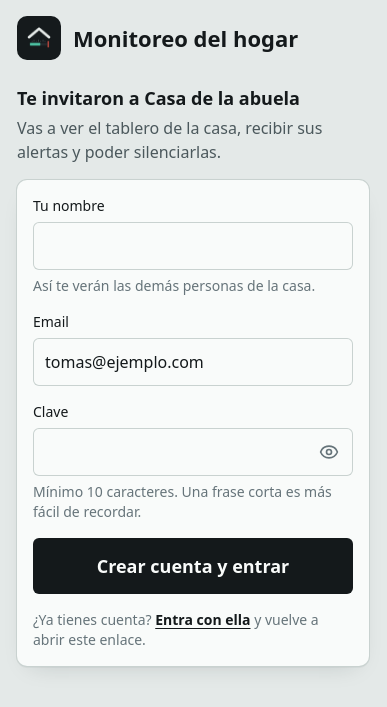
Test: Invitación › antes de enviar dice qué falta, junto a cada campo
The image size is (387, 707).
Step 1. Click the button "Crear cuenta y entrar" → (193, 566), box [33,538,353,594]
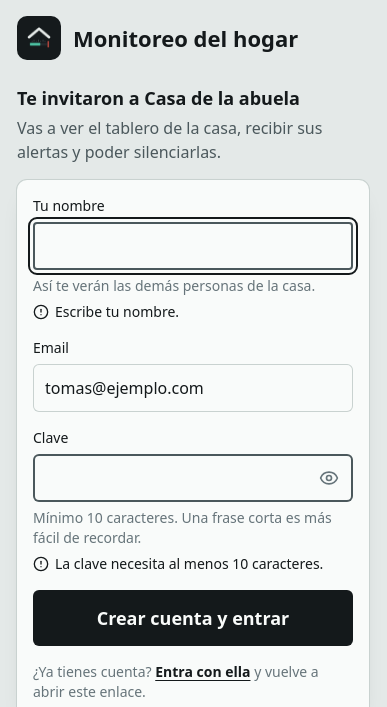
Now the text "Escribe tu nombre." is shown, box [33,302,179,321]
Now the text "La clave necesita al menos 10 caracteres." is shown, box [33,554,353,574]
